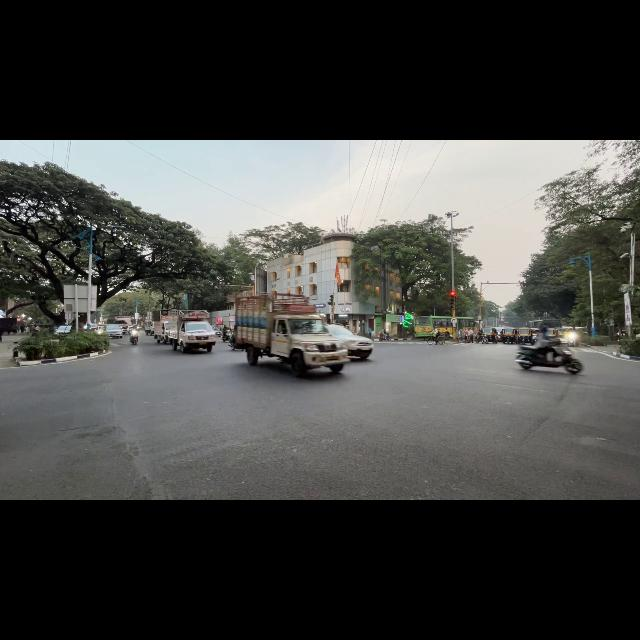bicycle: (427, 335, 445, 344)
bus: (528, 319, 561, 328), (456, 317, 476, 331)
car: (326, 324, 373, 359), (105, 324, 123, 338), (54, 326, 71, 337), (212, 326, 222, 337)
motorcycle: (516, 342, 583, 374), (129, 329, 139, 345), (229, 332, 236, 350), (222, 329, 231, 341), (378, 332, 389, 340)
truck: (235, 294, 348, 376), (162, 310, 216, 352), (152, 309, 171, 343), (114, 316, 133, 333), (142, 311, 154, 335), (144, 319, 153, 335)
